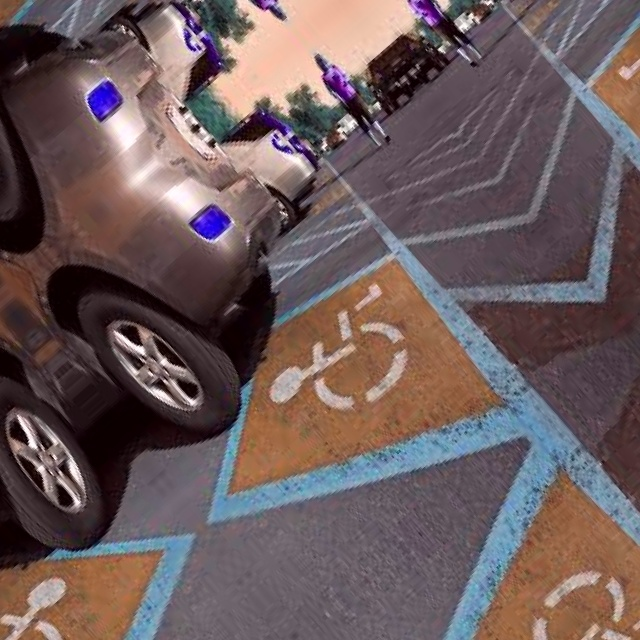ISA: (256, 276, 439, 452), (487, 541, 640, 640), (0, 563, 109, 640), (611, 0, 640, 144), (0, 0, 73, 32)
